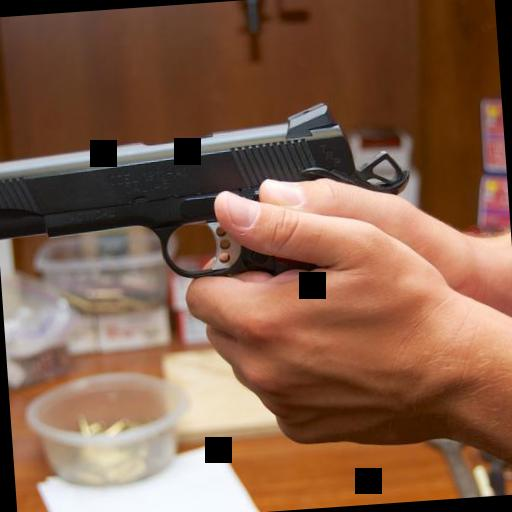Handgun: (0, 96, 423, 305)
